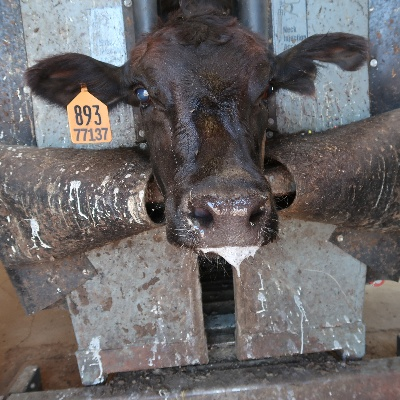fidget_spinner: (183, 177, 279, 250)
